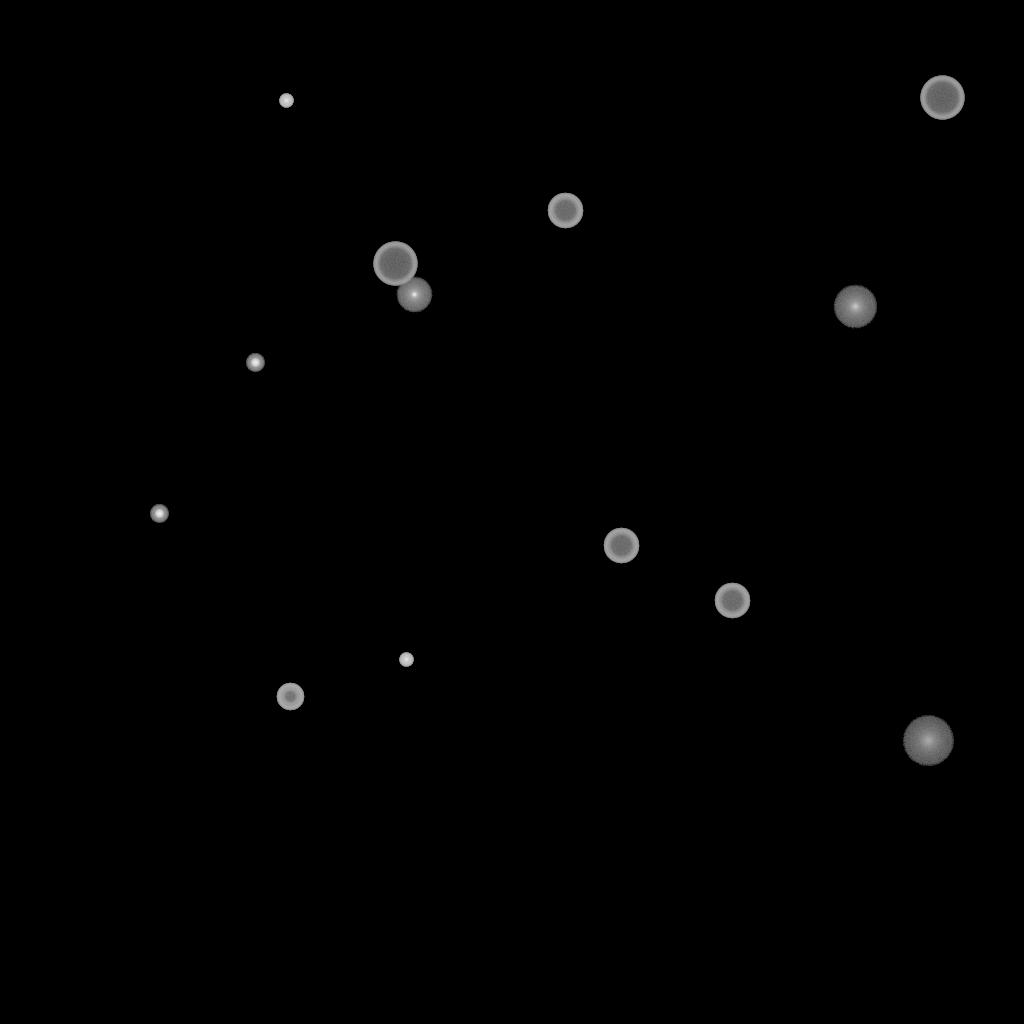depth:-20: (246, 354, 264, 372), (150, 505, 168, 523)
depth:-30: (399, 653, 413, 667), (279, 94, 293, 108)
depth:-50: (276, 683, 304, 711)
depth:-60: (714, 583, 750, 619), (603, 528, 639, 564), (547, 193, 583, 229)
depth:-70: (373, 242, 417, 286), (920, 76, 964, 120)
depth:0: (396, 277, 432, 313)
depth:10: (833, 285, 877, 329)
depth:20: (902, 716, 954, 766)
